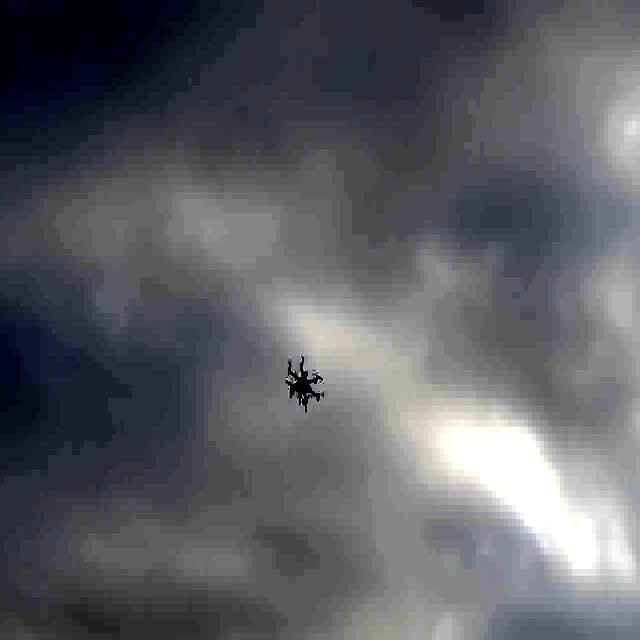drone: (284, 351, 324, 411)
